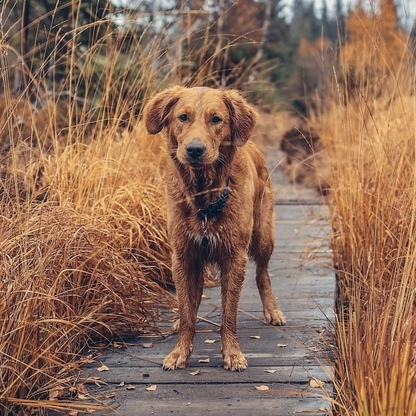labrado: (136, 78, 290, 374)
